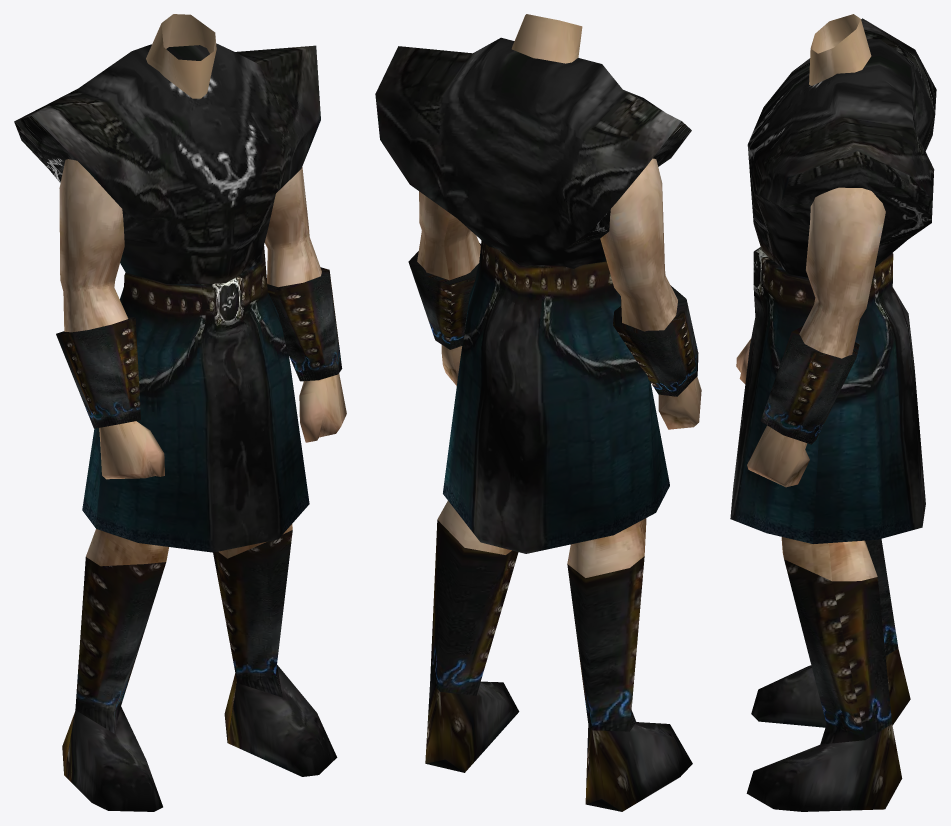
File: NWODA2_WINTER.glb
3 views of the same model, side by side, from view 1: azimuth 30°, elevation 25°; view 2: azimuth 150°, elevation 25°; view 3: azimuth 270°, elevation 25° (orthographic). The views are drawn at different scales.
Visible parts, largest first — view 1: NWODA2_WINTER; view 2: NWODA2_WINTER; view 3: NWODA2_WINTER.
Part boxes in pixels (<box>): NWODA2_WINTER: <box>14,14,346,811</box>; NWODA2_WINTER: <box>375,14,701,811</box>; NWODA2_WINTER: <box>730,14,936,811</box>.
Bounding box in the file's own units: 0.6657 × 1.7 × 0.427.
Materials: 2 (2 with a texture image).
